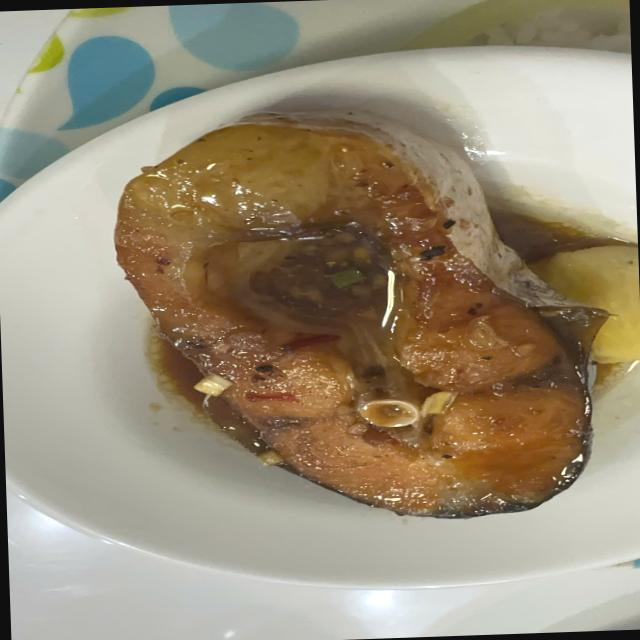ca kho: (113, 114, 605, 517)
